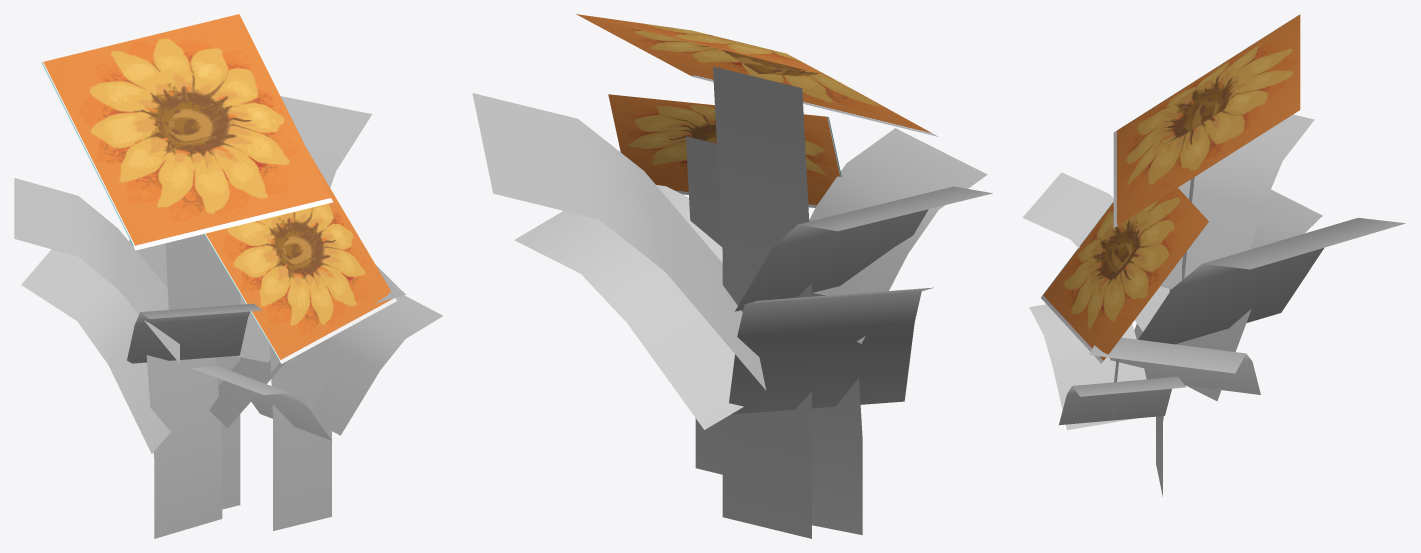
Rendered from V_F_Flower02.FBX.
3 renders of one model, left to right at view 1: azimuth 30°, elevation 25°; view 2: azimuth 150°, elevation 25°; view 3: azimuth 270°, elevation 25°, orthographic. The views are drawn at different scales.
Visible parts, largest first — view 1: fleur3, sunflawa1, sunflowa2; view 2: fleur3, sunflawa1, sunflowa2; view 3: fleur3, sunflawa1, sunflowa2.
Boxes of the visible parts, x1,y1,x2,y2 form: fleur3: (14, 96, 442, 538); sunflawa1: (41, 14, 332, 250); sunflowa2: (204, 148, 396, 363); fleur3: (472, 66, 992, 538); sunflawa1: (576, 14, 938, 136); sunflowa2: (608, 94, 841, 207); fleur3: (1022, 114, 1405, 496); sunflawa1: (1113, 14, 1300, 227); sunflowa2: (1041, 188, 1208, 363).
Bounding box in the file's own units: 50.93 × 54.3 × 43.98.
